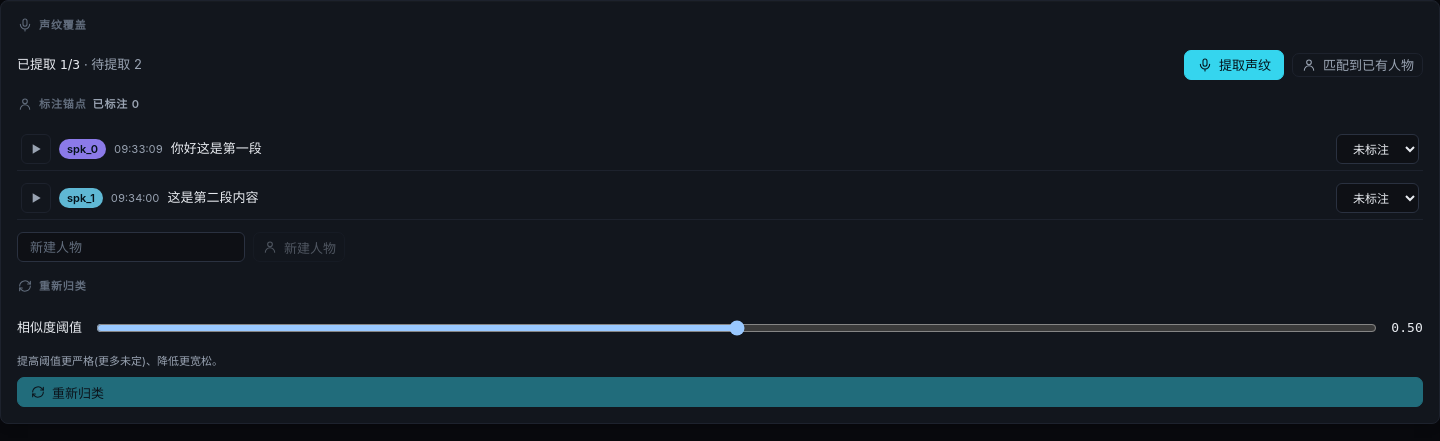
VoiceprintPanel › lists candidate segments for a session and enabling recluster after assigning a person
expect the text "你好这是第一段" is shown: met, box [171,140,262,156]
expect the text "这是第二段内容" is shown: met, box [168,189,258,205]
Note: assign a person to the first segment
Select "李雷" in the dropdown named "标注 seg_1" at (1378, 149), box [1336,134,1419,164]
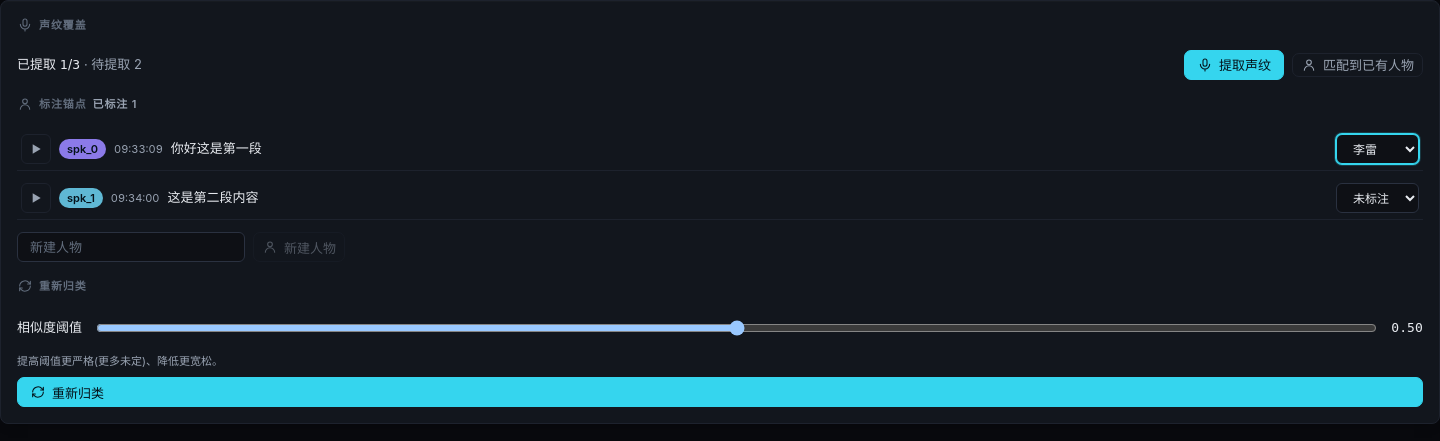
expect the button "重新归类" is enabled: met, box [17,377,1423,407]
expect the text "已标注 1" is shown: met, box [92,96,137,112]
